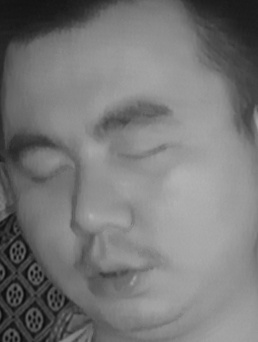blink: (115, 133, 172, 173), (19, 153, 71, 191)
mouth: (73, 245, 154, 304)
